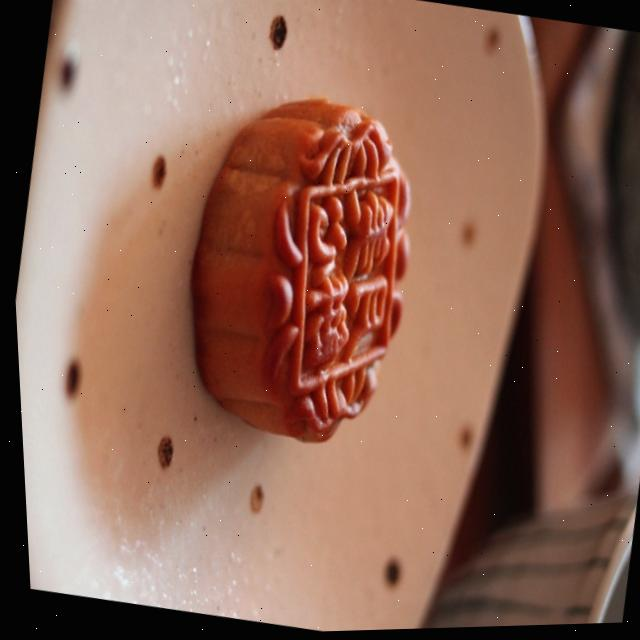蛋糕甜品: (163, 76, 480, 453)
